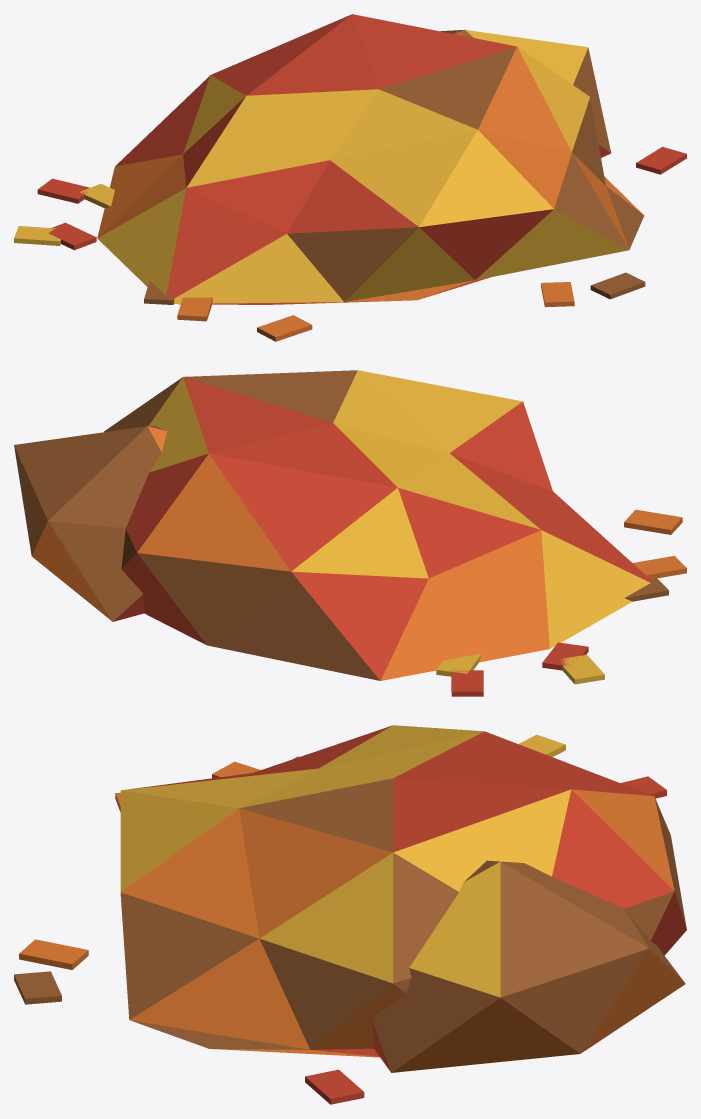
Rendered from prop_leaf_pile.glb.
3 views of the same model, one above another, from view 1: azimuth 30°, elevation 25°; view 2: azimuth 150°, elevation 25°; view 3: azimuth 270°, elevation 25° (orthographic). The views are drawn at different scales.
Visible parts, largest first — view 1: prop_leaf_pile; view 2: prop_leaf_pile; view 3: prop_leaf_pile.
Part boxes in pixels (box(x1,y1,x2,y2)): prop_leaf_pile: box(14, 14, 686, 341); prop_leaf_pile: box(14, 370, 686, 696); prop_leaf_pile: box(14, 725, 686, 1104).
Size of the model in its own units: 1.61 by 0.3452 by 1.25.
